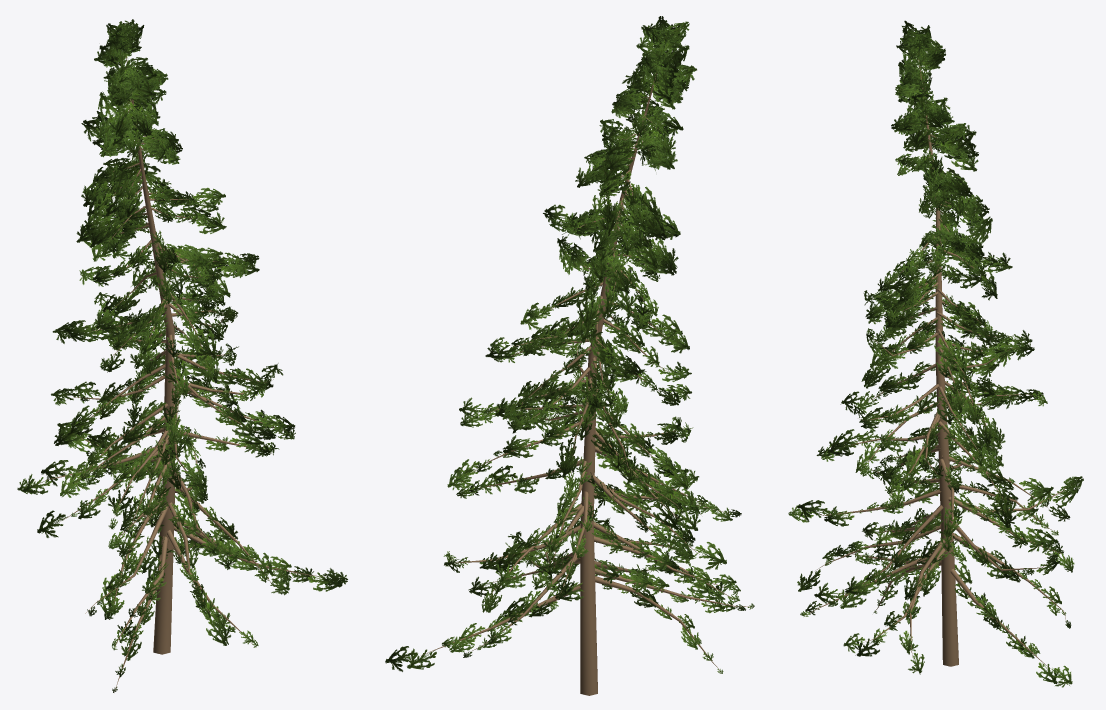
File: pine-lod1.glb
3 views of the same model, side by side, from view 1: azimuth 30°, elevation 25°; view 2: azimuth 150°, elevation 25°; view 3: azimuth 270°, elevation 25° (orthographic). The views are drawn at different scales.
Parts seen in each view (by area): view 1: leaf cards, branches; view 2: leaf cards, branches; view 3: leaf cards, branches.
Part boxes in pixels (x1,y1,x2,y2): leaf cards: (17,19,347,692); branches: (39,56,325,691); leaf cards: (385,16,754,673); branches: (423,73,753,695); leaf cards: (788,20,1083,687); branches: (810,59,1066,668).
Size of the model in its own units: 4.33 by 10.03 by 4.51.
2 materials, 1 textured.
